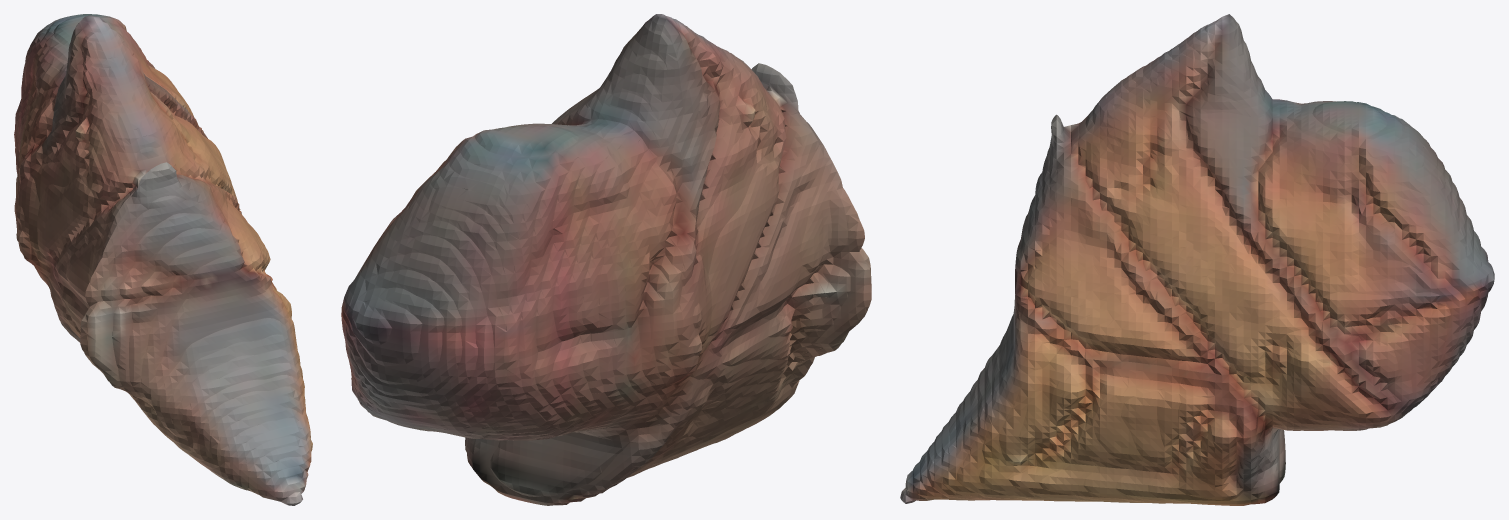
The picture shows the model from 3 angles, left to right: view 1: azimuth 30°, elevation 25°; view 2: azimuth 150°, elevation 25°; view 3: azimuth 270°, elevation 25°; orthographic projection. The views are drawn at different scales.
Parts seen in each view (by area): view 1: world; view 2: world; view 3: world.
Part boxes in pixels (x1,y1,x2,y2): world: (14,14,312,505); world: (341,14,871,505); world: (900,14,1494,505).
Bounding box in the file's own units: 0.3201 × 0.4736 × 0.5639.
